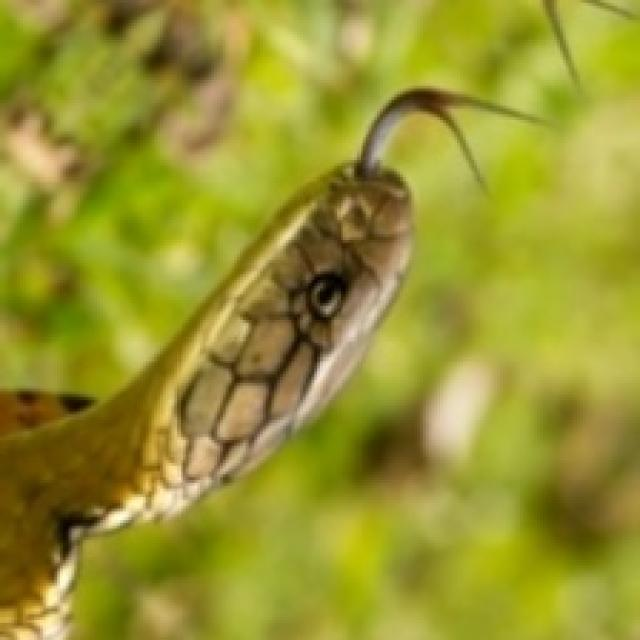king cobra: (0, 89, 537, 637)
